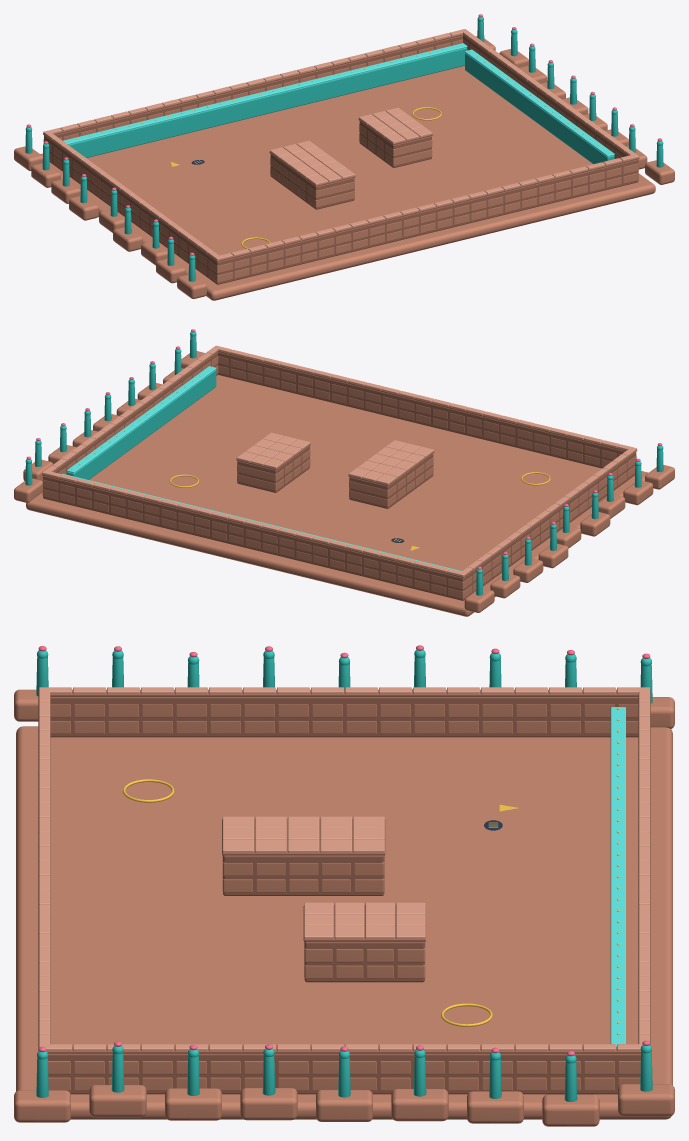
File: forge.runtime.gltf
3 renders of one model, top to bottom at view 1: azimuth 30°, elevation 25°; view 2: azimuth 150°, elevation 25°; view 3: azimuth 270°, elevation 25°, orthographic. The views are drawn at different scales.
Visible parts, largest first — view 1: SOLID 0 border; view 2: SOLID 0 border; view 3: SOLID 0 border.
Part boxes in pixels (box(x1,y1,x2,y2)): SOLID 0 border: box(14, 14, 674, 300); SOLID 0 border: box(14, 329, 674, 616); SOLID 0 border: box(14, 645, 674, 1126).
Size of the model in its own units: 24.31 by 2.26 by 16.2.
